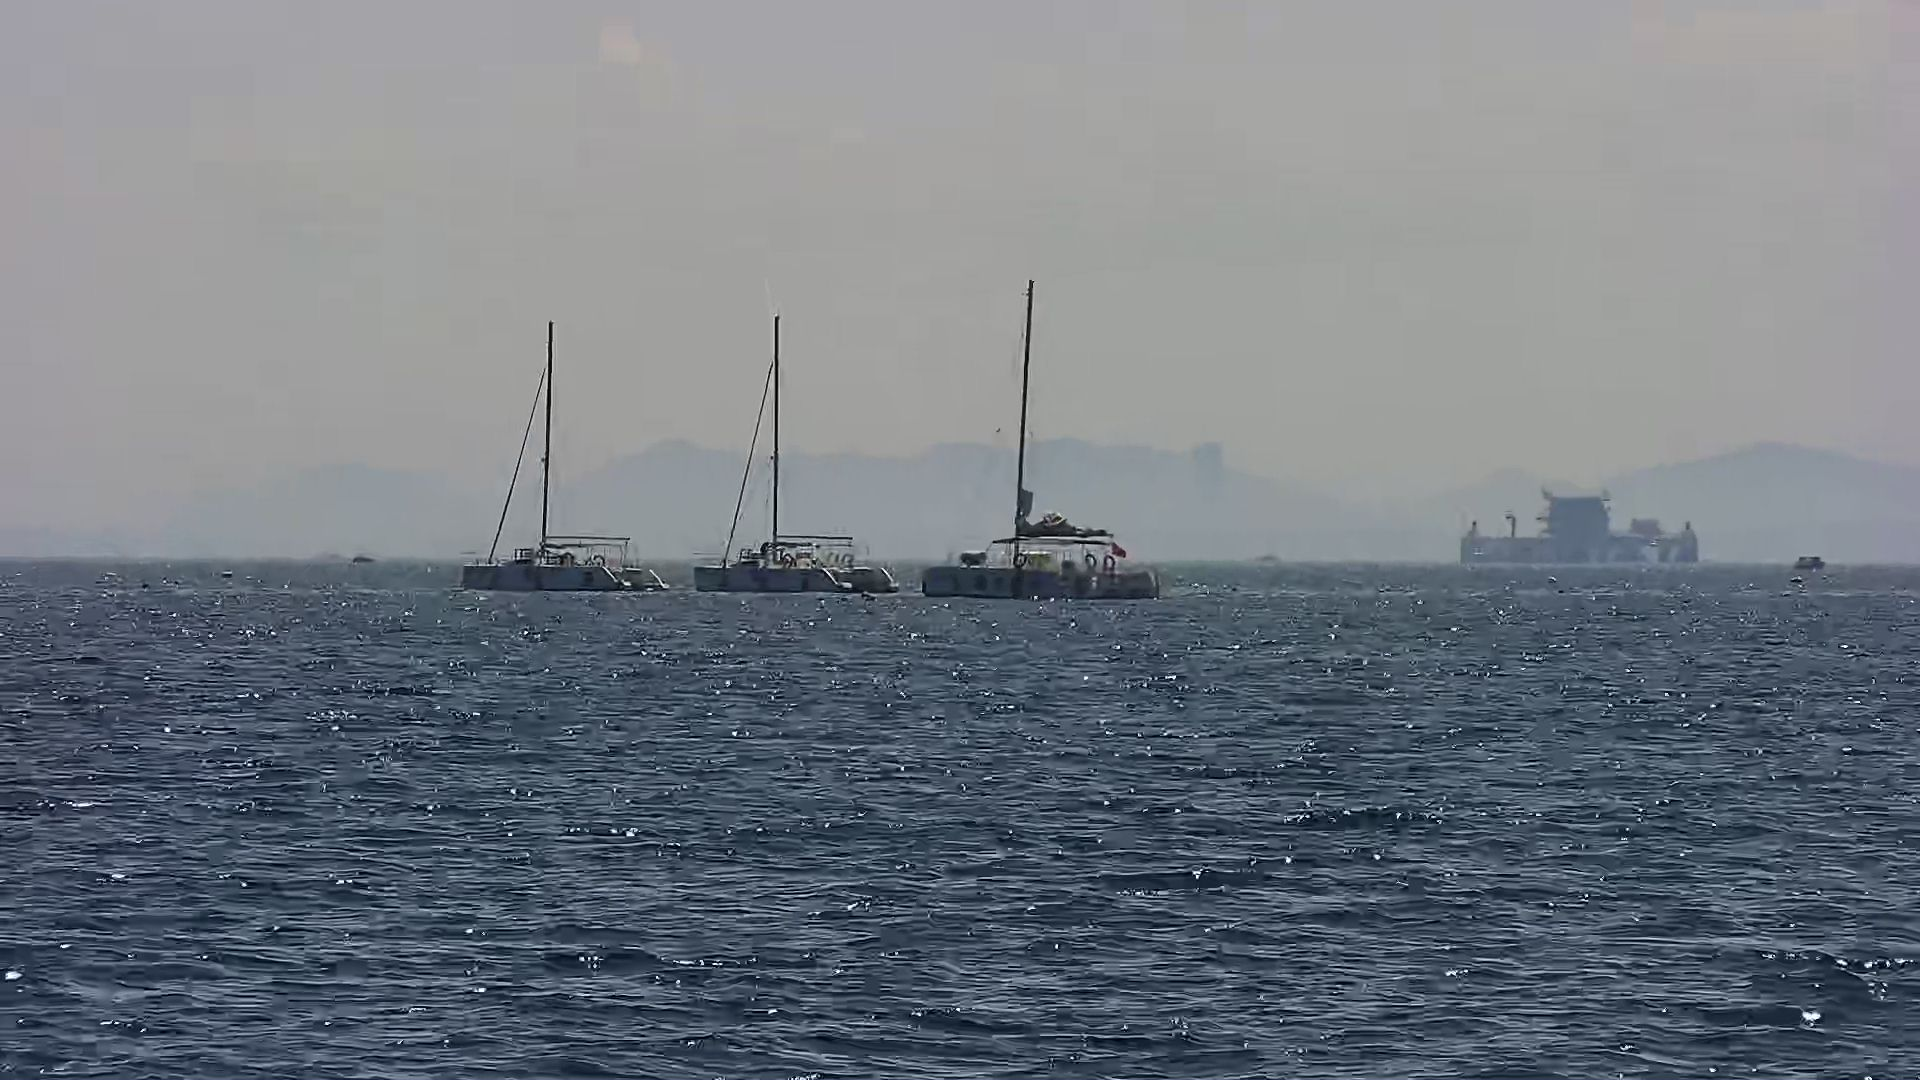boat: (916, 284, 1160, 601), (692, 313, 905, 601), (462, 313, 673, 595)
platform: (1451, 488, 1709, 571)
